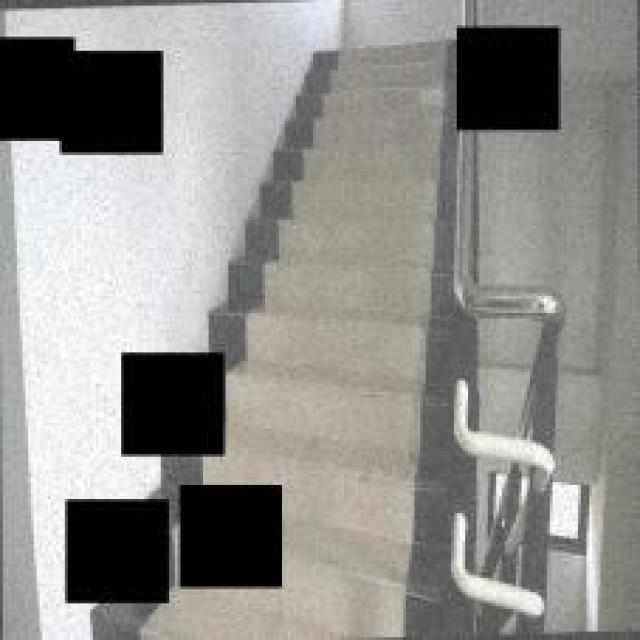upstair: (246, 35, 452, 480)
